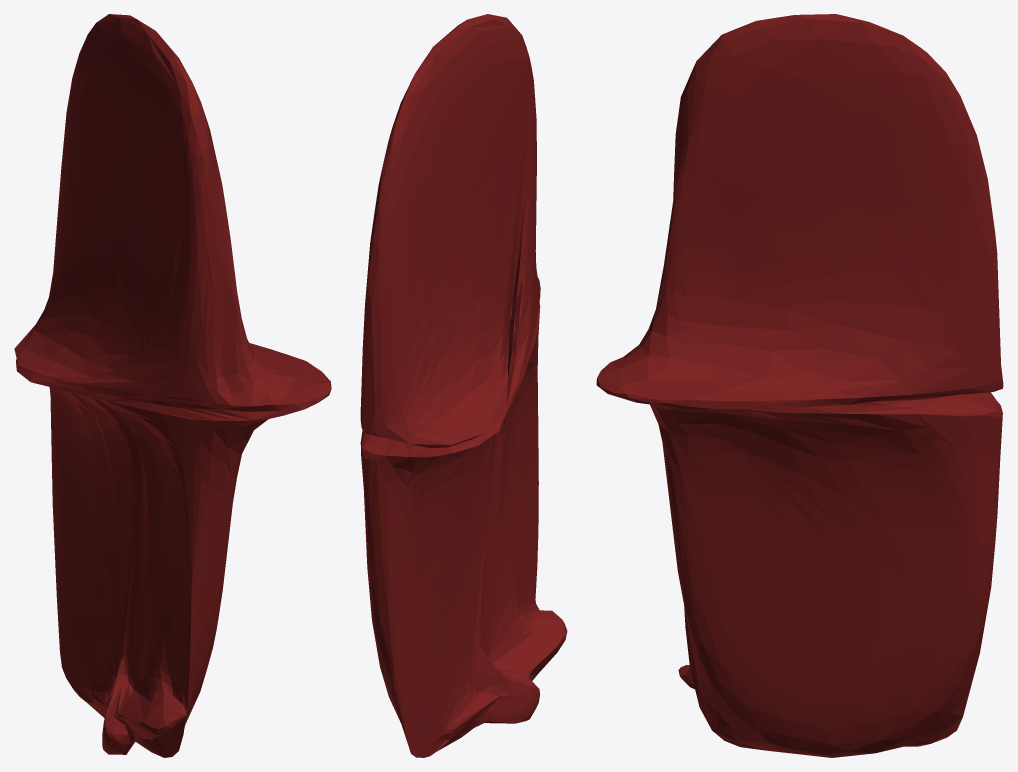
3 views of the same model, side by side, from view 1: azimuth 30°, elevation 25°; view 2: azimuth 150°, elevation 25°; view 3: azimuth 270°, elevation 25° (orthographic). The views are drawn at different scales.
Parts seen in each view (by area): view 1: 541_Cube.2183; view 2: 541_Cube.2183; view 3: 541_Cube.2183.
Boxes of the visible parts, x1,y1,x2,y2 form: 541_Cube.2183: [14, 14, 331, 757]; 541_Cube.2183: [360, 14, 567, 757]; 541_Cube.2183: [596, 14, 1003, 757].
Bounding box in the file's own units: 2.99 × 11.23 × 5.54.
